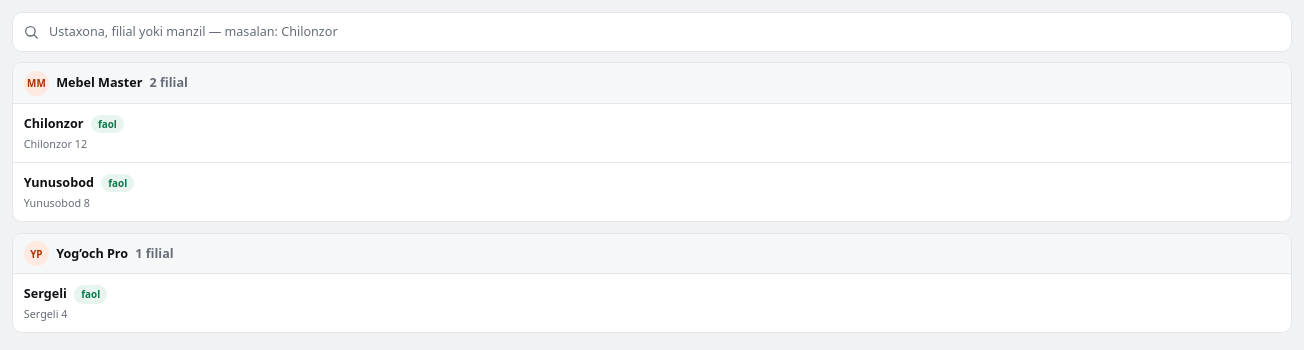
Test: CuttingBranchPicker › filters across workshops
Type "Sergeli" into the search field with placeholder "Ustaxona, filial yoki manzil — masalan: Chilonzor" at [652, 32], box [12,12,1292,52]
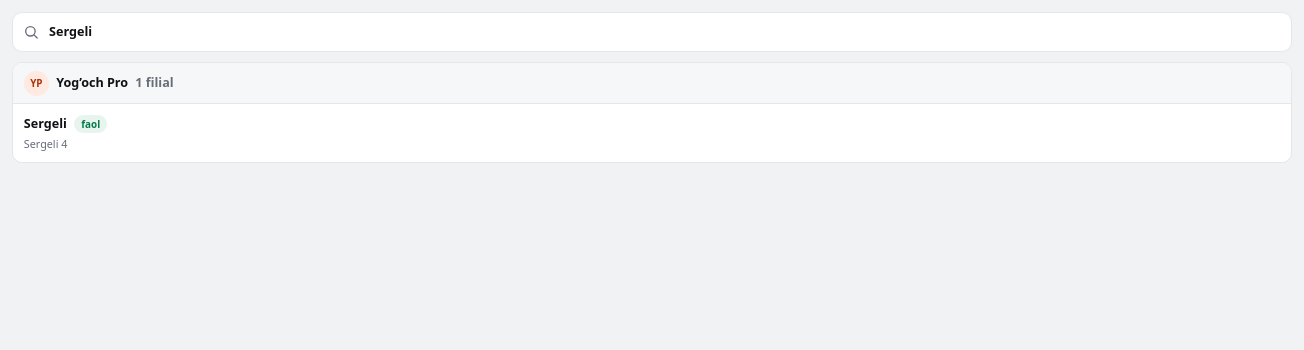
expect the text "Sergeli" is shown: met, box [24,115,67,133]
expect the text "Chilonzor" is gone: met
